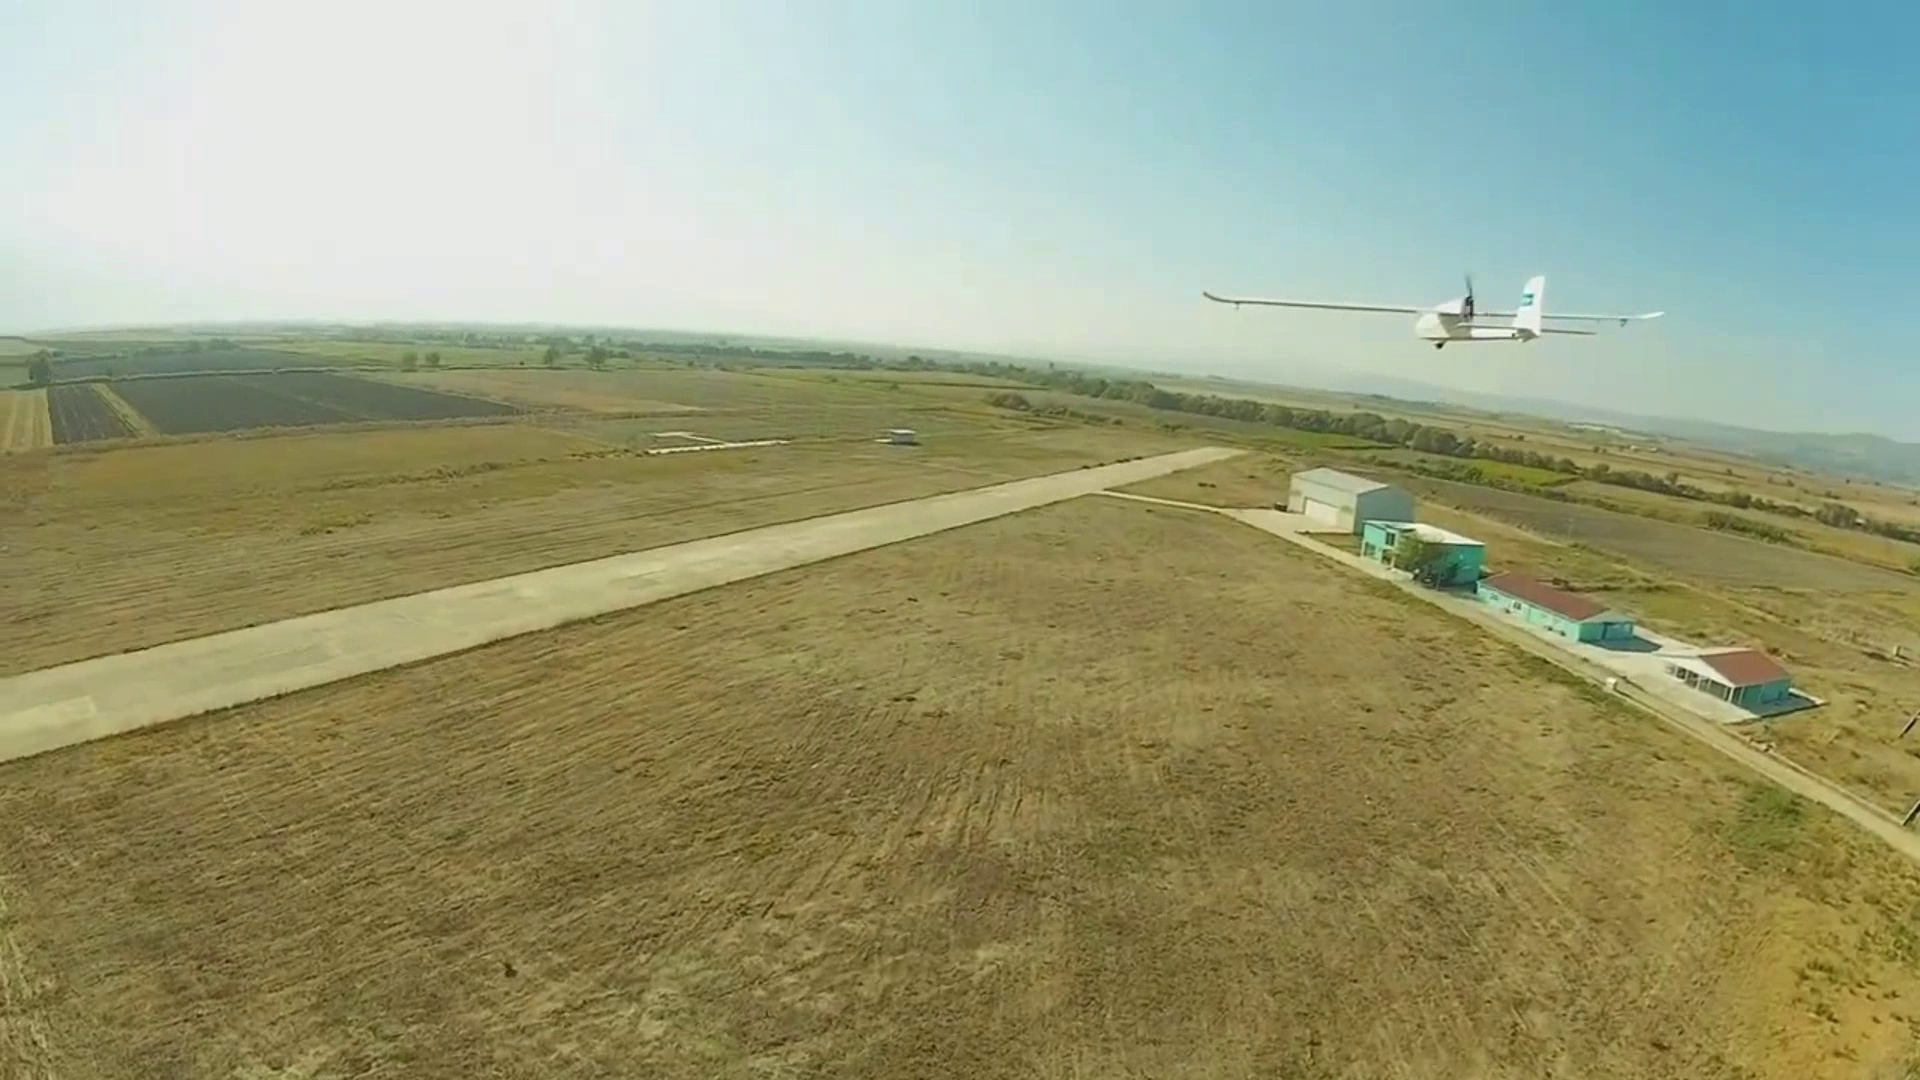airplane: (1200, 269, 1662, 349)
